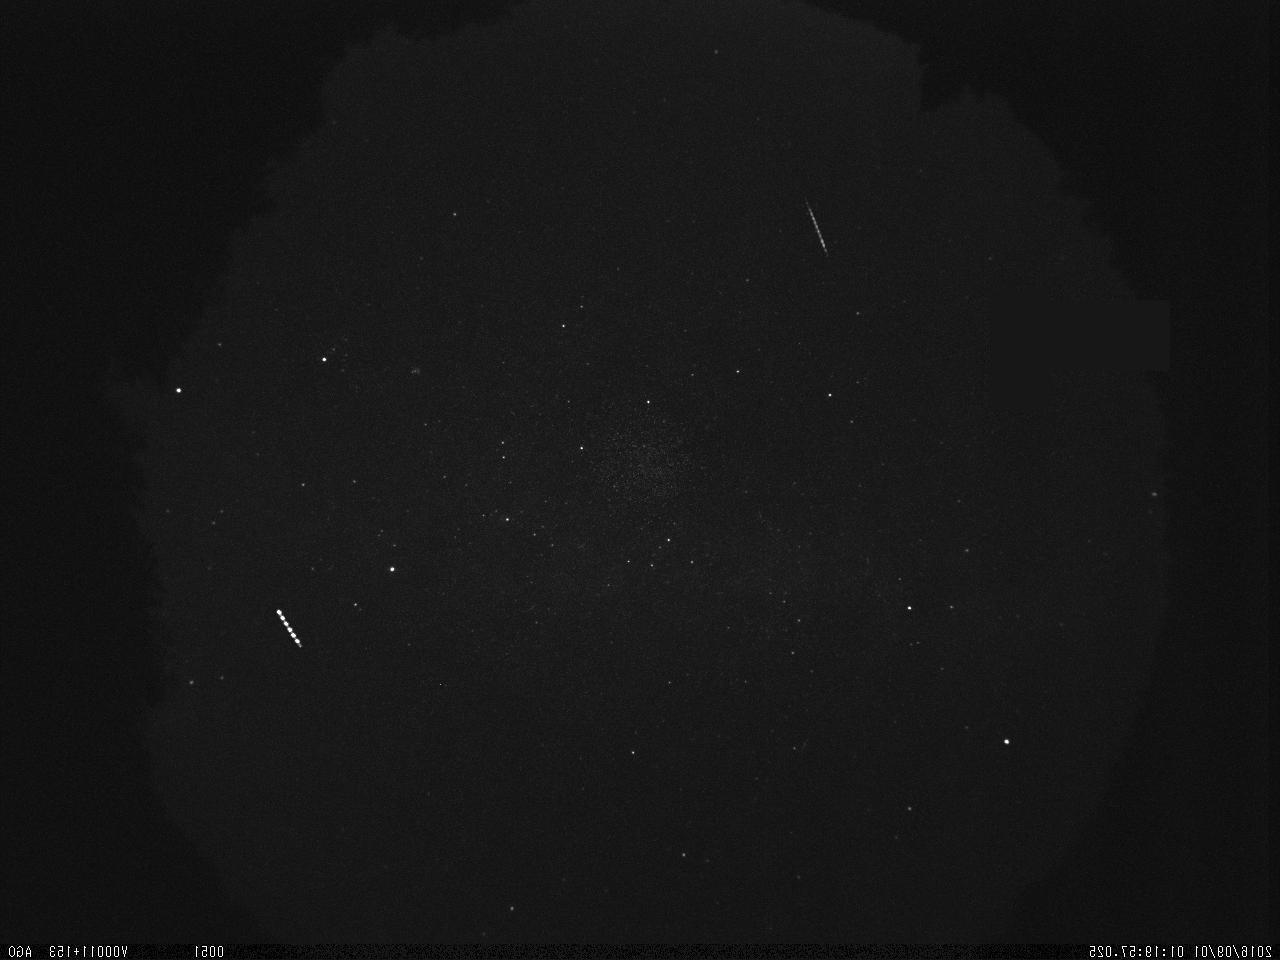meteor: (795, 186, 838, 271)
satelite: (271, 602, 310, 655)
